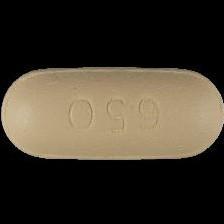54868-4703: (0, 0, 224, 224)
